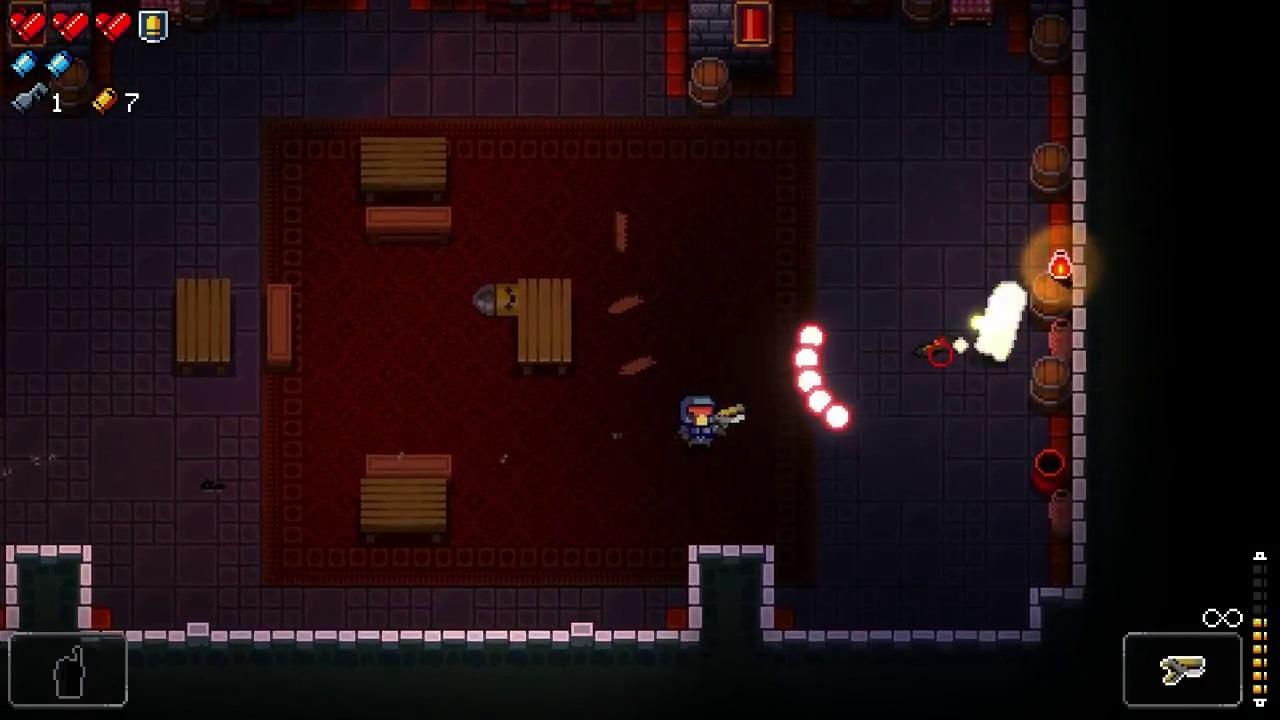bullet: (797, 370, 827, 397), (797, 323, 824, 352), (826, 403, 852, 432), (808, 388, 833, 417), (794, 344, 818, 374)
dead_bullet_kin: (472, 282, 518, 318)
player: (680, 394, 719, 448)
table: (360, 135, 447, 201), (360, 478, 444, 543), (176, 277, 231, 376), (519, 279, 571, 376)
